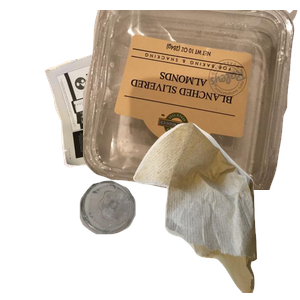glass: (77, 178, 205, 300)
paper: (42, 21, 249, 181)
plastic: (83, 10, 300, 190)
trash: (131, 120, 300, 300)
